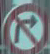Don't turn right: (1, 3, 47, 53)
